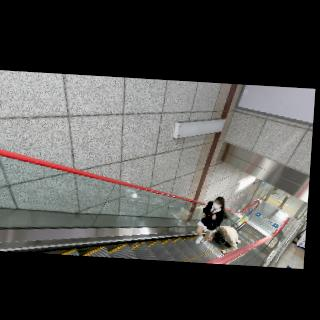anomaly: (211, 225, 243, 256)
normal: (195, 193, 228, 245)
